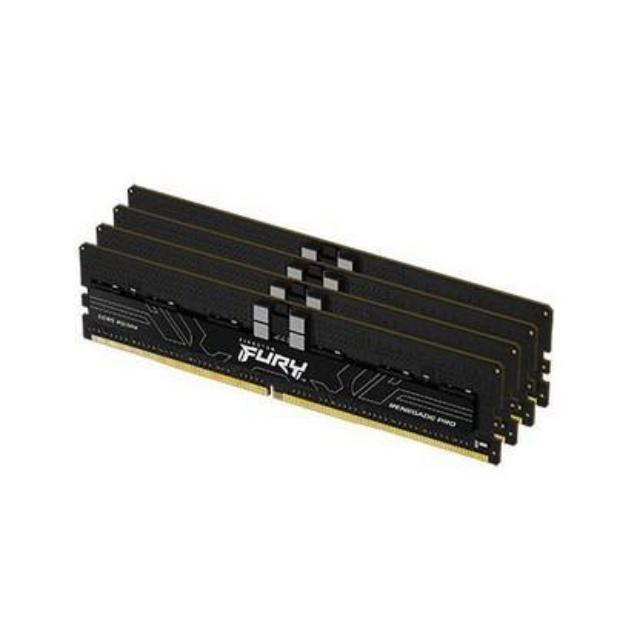RAM: (70, 178, 562, 470)
